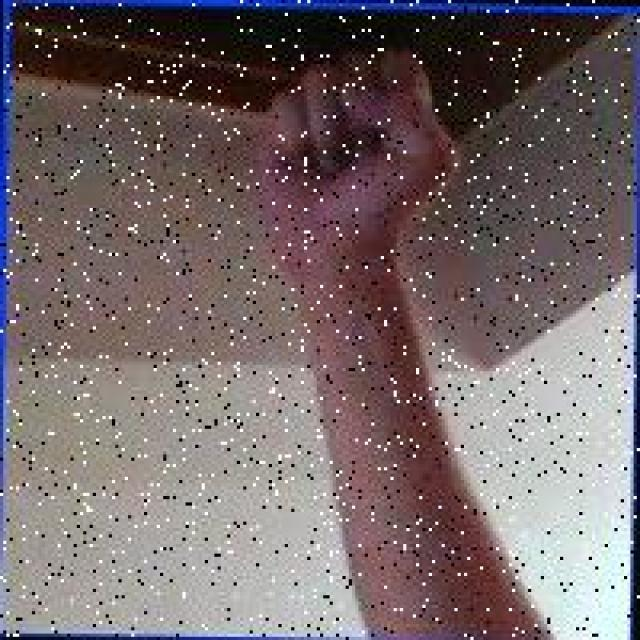S: (240, 38, 470, 285)
